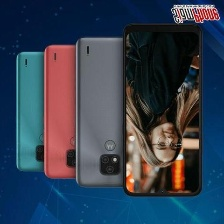phone: (119, 21, 204, 200), (73, 34, 142, 190), (42, 41, 98, 181), (13, 50, 68, 175)
